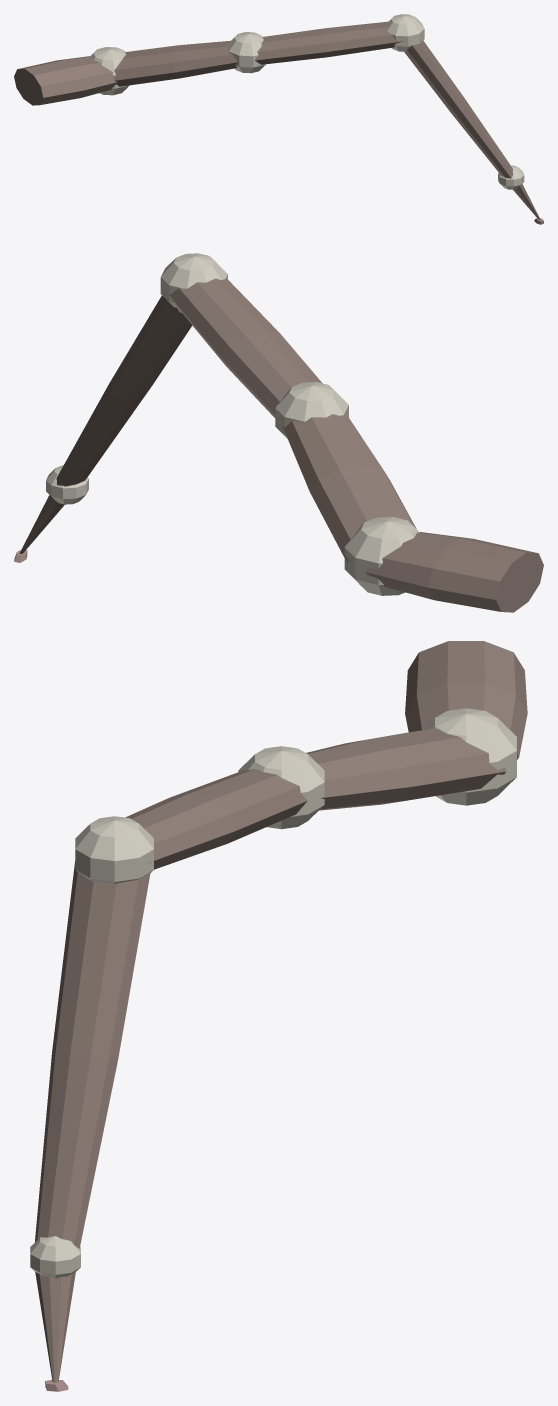
Rendered from crab_leg_r4_original_01.glb.
The picture shows the model from 3 angles, top to bottom: view 1: azimuth 30°, elevation 25°; view 2: azimuth 150°, elevation 25°; view 3: azimuth 270°, elevation 25°; orthographic projection. The views are drawn at different scales.
Visible parts, largest first — view 1: R4Segment2, R4Segment1, R4Segment0, R4Segment3, R4Articulation2, R4Articulation3, R4Articulation1, R4Articulation4, R4Segment4; view 2: R4Segment0, R4Segment1, R4Segment2, R4Segment3, R4Articulation1, R4Articulation2, R4Articulation3, R4Articulation4, R4Segment4; view 3: R4Segment3, R4Segment1, R4Segment2, R4Segment0, R4Articulation3, R4Articulation1, R4Articulation2, R4Segment4, R4Articulation4.
Boxes of the visible parts, x1,y1,x2,y2 form: R4Segment2: [255, 21, 402, 64]; R4Segment1: [114, 40, 237, 86]; R4Segment0: [14, 56, 117, 105]; R4Segment3: [404, 40, 513, 178]; R4Articulation2: [227, 32, 265, 73]; R4Articulation3: [386, 14, 424, 51]; R4Articulation1: [90, 47, 129, 95]; R4Articulation4: [498, 165, 524, 189]; R4Segment4: [513, 184, 540, 219]; R4Segment0: [366, 532, 543, 612]; R4Segment1: [282, 413, 416, 564]; R4Segment2: [166, 278, 322, 417]; R4Segment3: [56, 296, 192, 486]; R4Articulation1: [344, 517, 419, 595]; R4Articulation2: [275, 382, 348, 438]; R4Articulation3: [160, 253, 227, 312]; R4Articulation4: [46, 465, 88, 504]; R4Segment4: [19, 495, 64, 553]; R4Segment3: [35, 861, 150, 1248]; R4Segment1: [306, 728, 506, 810]; R4Segment2: [125, 769, 307, 869]; R4Segment0: [405, 641, 527, 759]; R4Articulation3: [75, 816, 153, 884]; R4Articulation1: [423, 708, 516, 805]; R4Articulation2: [238, 746, 324, 829]; R4Segment4: [35, 1272, 75, 1382]; R4Articulation4: [30, 1236, 80, 1278].
Bounding box in the file's own units: 0.5793 × 0.3023 × 0.3027.
